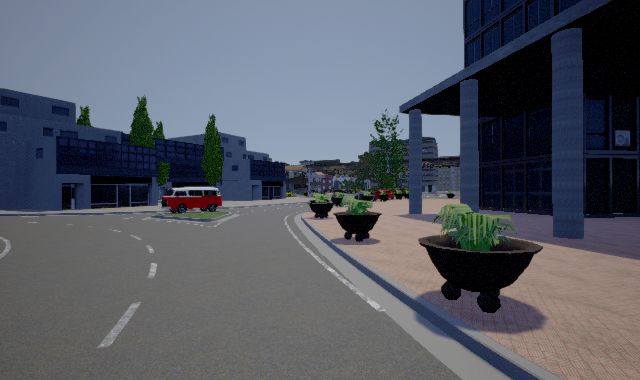vehicle: (161, 187, 223, 214)
